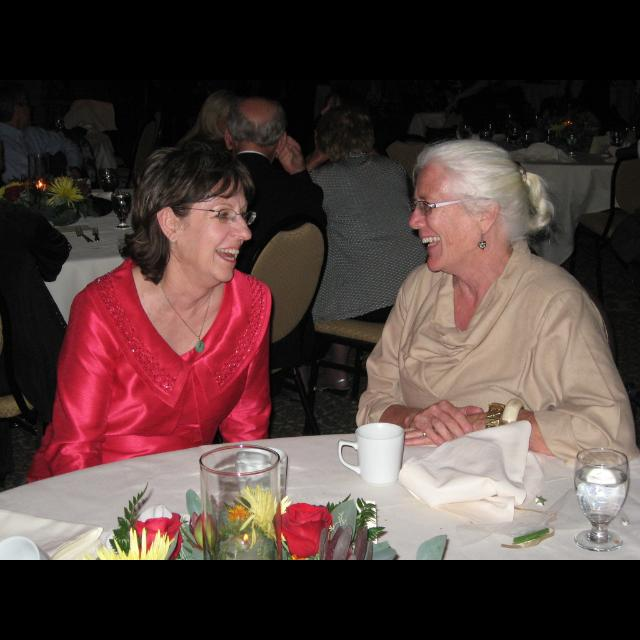Flower: (232, 482, 290, 550), (74, 525, 174, 559), (134, 511, 182, 559), (280, 509, 328, 555), (46, 176, 84, 204), (1, 182, 22, 198), (2, 184, 22, 200)
